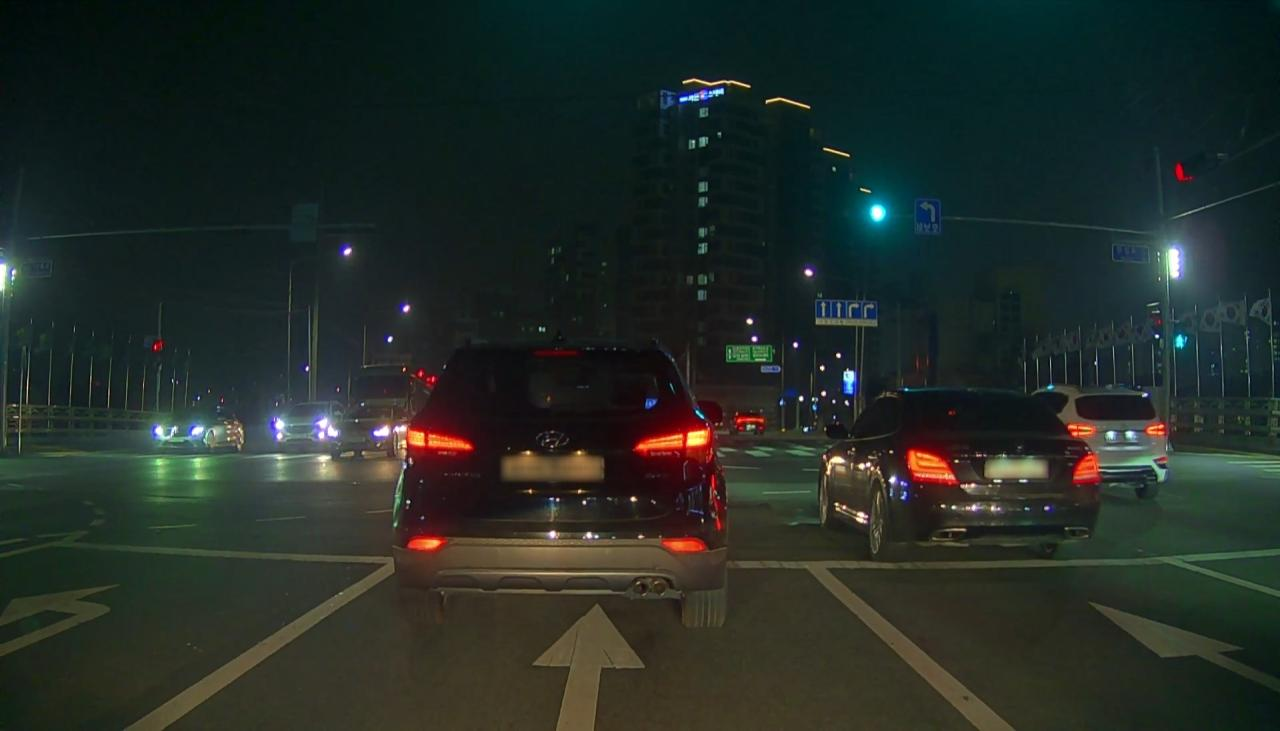Green Light: (869, 202, 888, 223)
